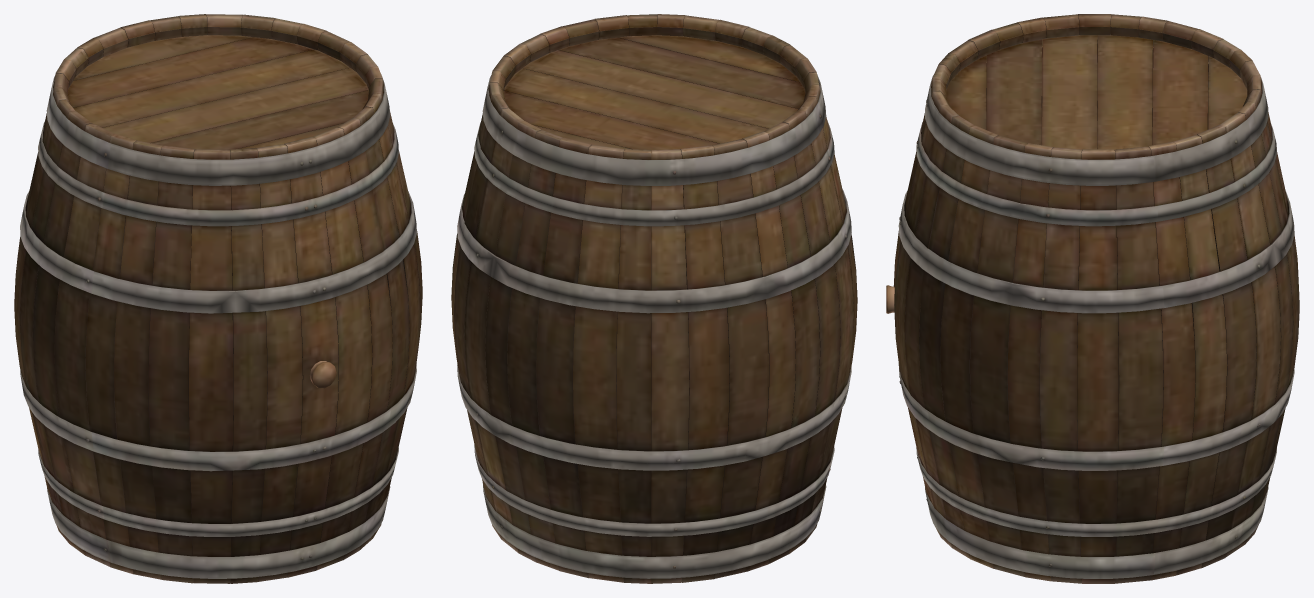
File: wine_barrel_01.glb
3 renders of one model, left to right at view 1: azimuth 30°, elevation 25°; view 2: azimuth 150°, elevation 25°; view 3: azimuth 270°, elevation 25°, orthographic.
Parts seen in each view (by area): view 1: wine_barrel_01_Lid; view 2: wine_barrel_01_Lid; view 3: wine_barrel_01_Lid.
Boxes of the visible parts, x1,y1,x2,y2 form: wine_barrel_01_Lid: [14, 14, 422, 583]; wine_barrel_01_Lid: [451, 14, 857, 583]; wine_barrel_01_Lid: [886, 14, 1299, 583].
Bounding box in the file's own units: 0.7419 × 0.8695 × 0.7554.
1 material, 1 textured.
